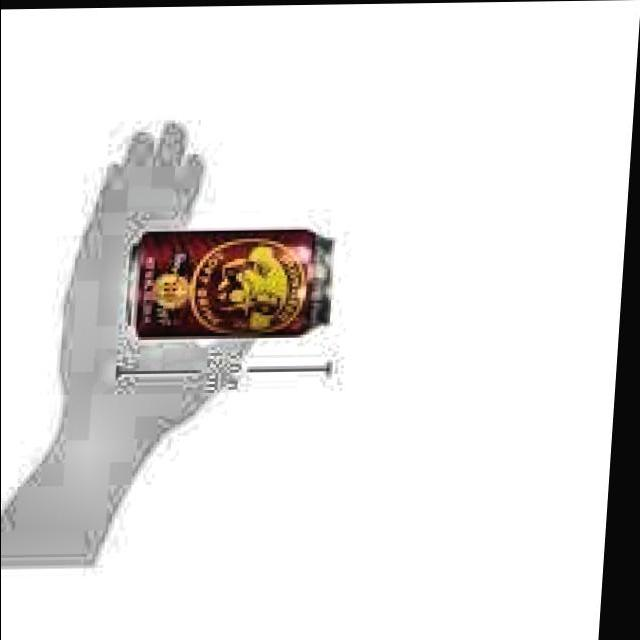Aluminum Can: (118, 222, 346, 344)
